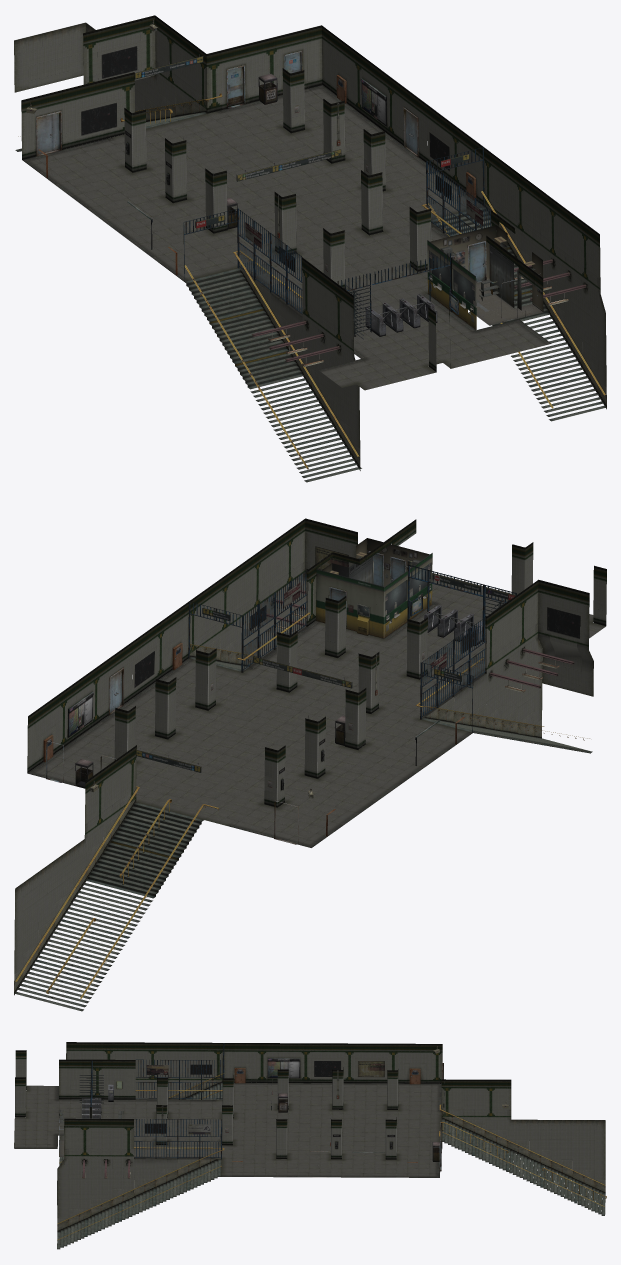
Rendered from station.glb.
3 renders of one model, top to bottom at view 1: azimuth 30°, elevation 25°; view 2: azimuth 150°, elevation 25°; view 3: azimuth 270°, elevation 25°, orthographic. The views are drawn at different scales.
Visible parts, largest first — view 1: FrontSide_8, FrontSide_11, FrontSide_6, FrontSide_7, FrontSide_0, FrontSide_10, FrontSide_4, FrontSide_5, FrontSide_2, FrontSide_1, FrontSide_9; view 2: FrontSide_8, FrontSide_11, FrontSide_6, FrontSide_7, FrontSide_0, FrontSide_1, FrontSide_5, FrontSide_4, FrontSide_2, FrontSide_10, FrontSide_9; view 3: FrontSide_11, FrontSide_8, FrontSide_6, FrontSide_0, FrontSide_7, FrontSide_4, FrontSide_5, FrontSide_2, FrontSide_9.
Boxes of the visible parts, x1=… form: FrontSide_8: x1=22, y1=75, x2=551, y2=390; FrontSide_11: x1=21, y1=15, x2=600, y2=427; FrontSide_6: x1=15, y1=87, x2=606, y2=482; FrontSide_7: x1=127, y1=51, x2=586, y2=362; FrontSide_0: x1=14, y1=22, x2=606, y2=448; FrontSide_10: x1=429, y1=225, x2=543, y2=325; FrontSide_4: x1=77, y1=41, x2=482, y2=272; FrontSide_5: x1=124, y1=56, x2=469, y2=314; FrontSide_2: x1=26, y1=19, x2=568, y2=366; FrontSide_1: x1=427, y1=240, x2=540, y2=329; FrontSide_9: x1=125, y1=73, x2=345, y2=229; FrontSide_8: x1=27, y1=573, x2=605, y2=847; FrontSide_11: x1=22, y1=518, x2=606, y2=953; FrontSide_6: x1=14, y1=612, x2=592, y2=1011; FrontSide_7: x1=46, y1=565, x2=574, y2=782; FrontSide_0: x1=14, y1=519, x2=593, y2=973; FrontSide_1: x1=316, y1=551, x2=432, y2=638; FrontSide_5: x1=136, y1=573, x2=515, y2=806; FrontSide_4: x1=132, y1=542, x2=583, y2=691; FrontSide_2: x1=43, y1=587, x2=559, y2=844; FrontSide_10: x1=322, y1=538, x2=430, y2=631; FrontSide_9: x1=75, y1=715, x2=345, y2=790; FrontSide_11: x1=15, y1=1042, x2=594, y2=1208; FrontSide_8: x1=14, y1=1082, x2=441, y2=1177; FrontSide_6: x1=57, y1=1072, x2=606, y2=1249; FrontSide_0: x1=57, y1=1053, x2=605, y2=1218; FrontSide_7: x1=79, y1=1043, x2=444, y2=1178; FrontSide_4: x1=64, y1=1058, x2=387, y2=1159; FrontSide_5: x1=91, y1=1055, x2=444, y2=1159; FrontSide_2: x1=82, y1=1046, x2=509, y2=1178; FrontSide_9: x1=278, y1=1093, x2=439, y2=1161.
Bounding box in the file's own units: 20.12 × 11.08 × 51.15.
13 materials, 13 textured.
